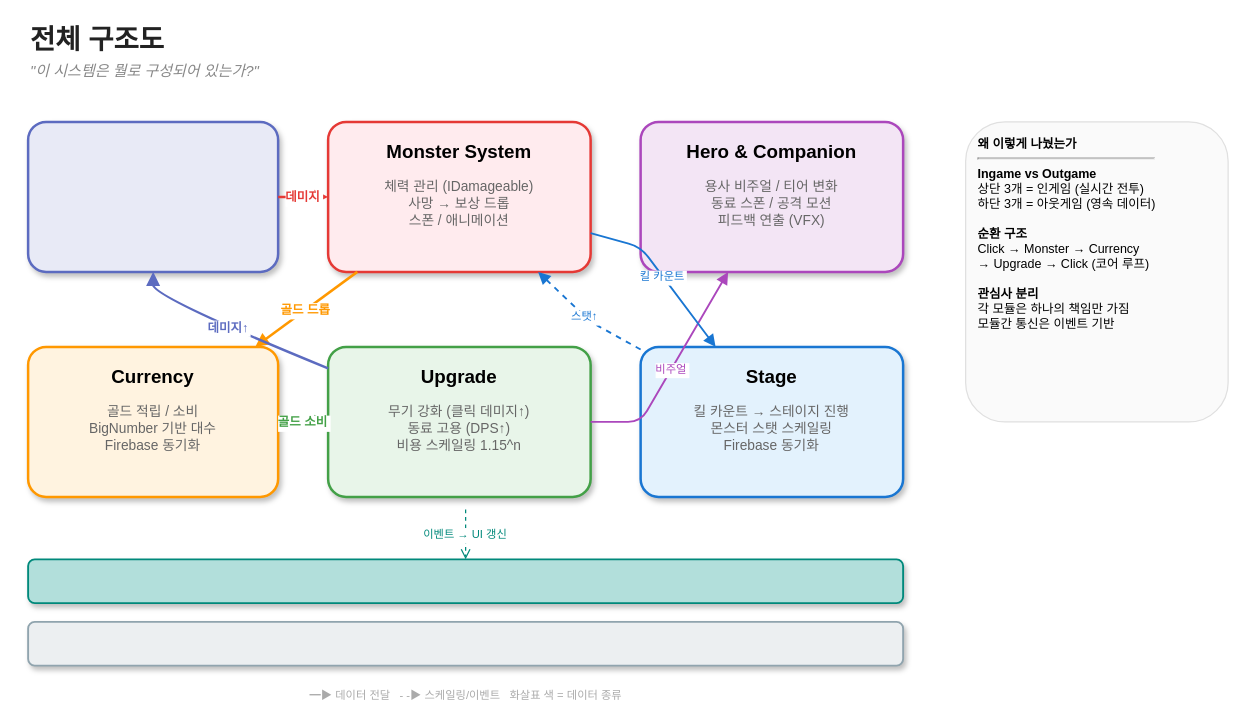
This 1250x728 diagram has some shape labels left out. Here are the shapes that lost their labels. From the top down, the centre of each, then its label:
At point 153,198: "Click System 수동 터치 입력 처리 자동 DPS 타이머 크리티컬 판정".
At point 466,582: "UI Layer GoldDisplay · DPSDisplay · StageDisplay · HealthBar · UpgradeButton".
At point 466,645: "Core BigNumber · SFXManager · Firebase · DOTween · LeanPool · UniTask".
